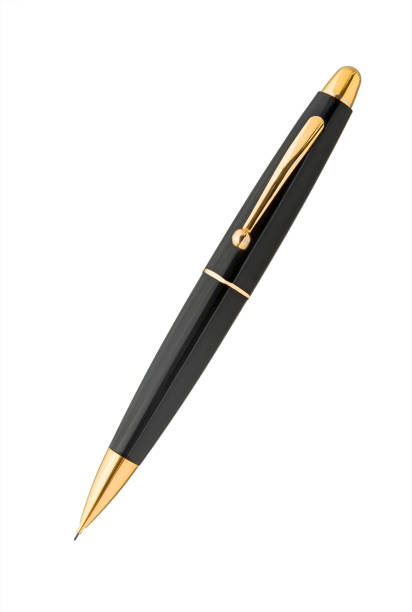pen: (64, 57, 372, 553)
